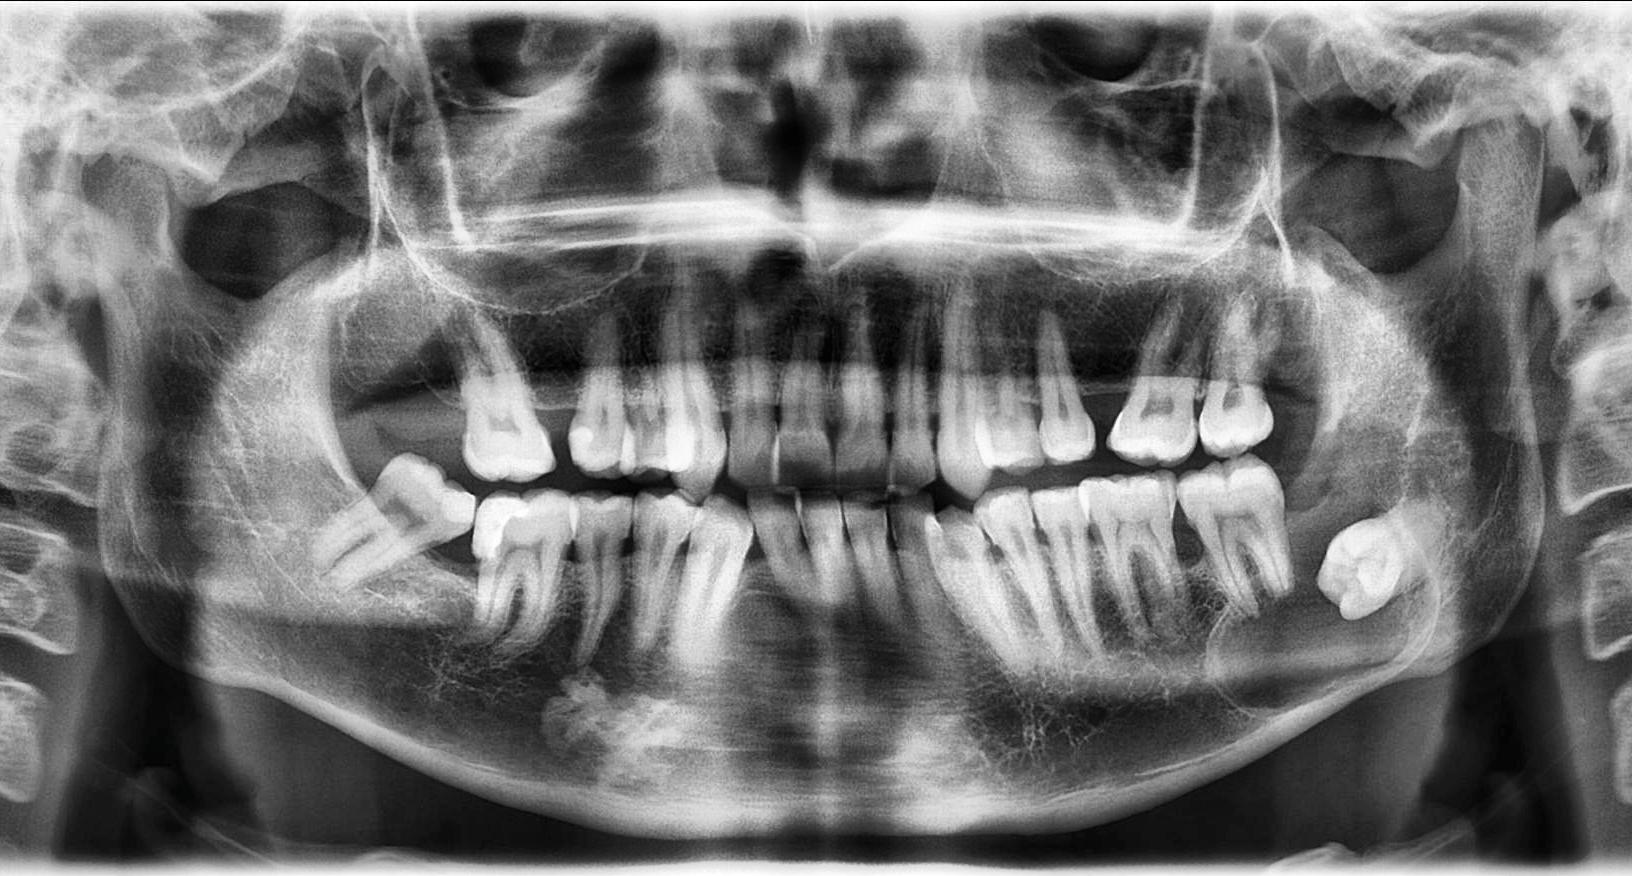enflamatuar: (1203, 410, 1442, 719)
